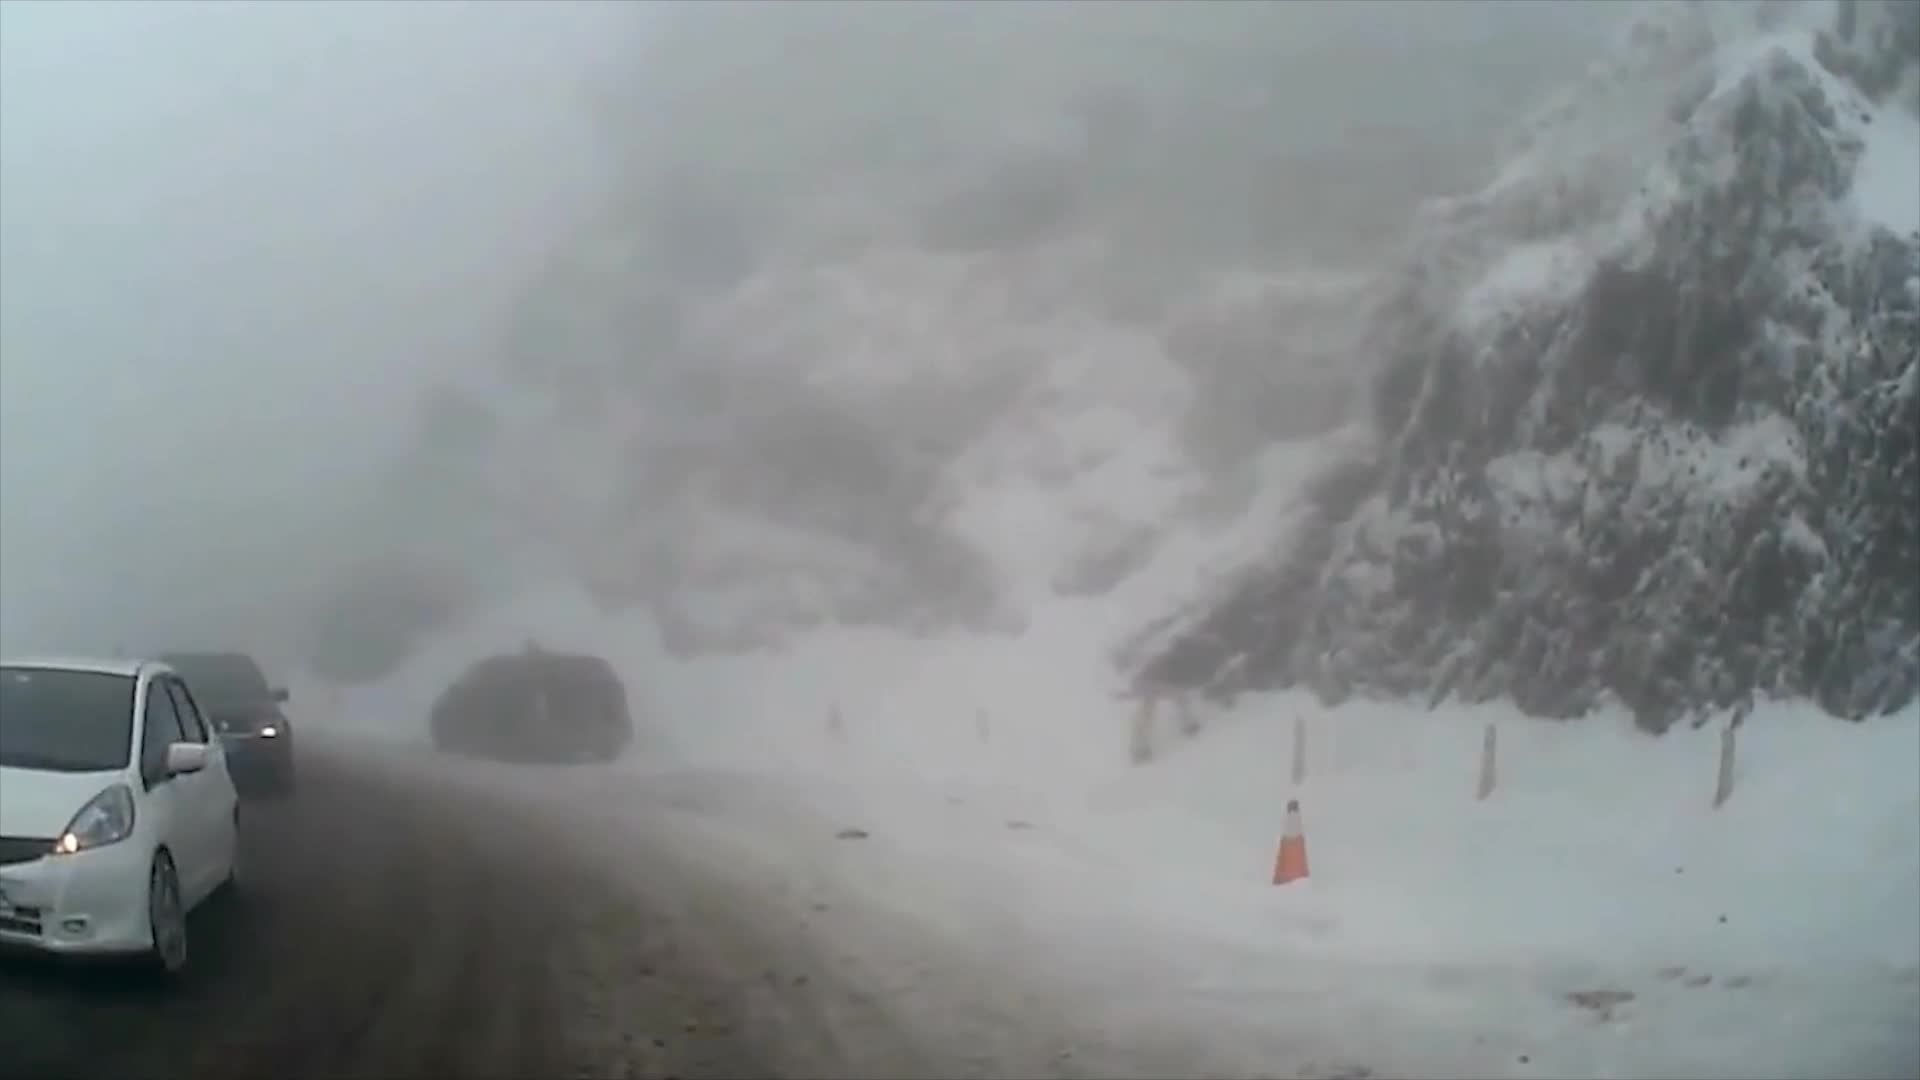vehicle: (0, 654, 252, 984), (123, 646, 295, 804), (431, 651, 632, 764)
